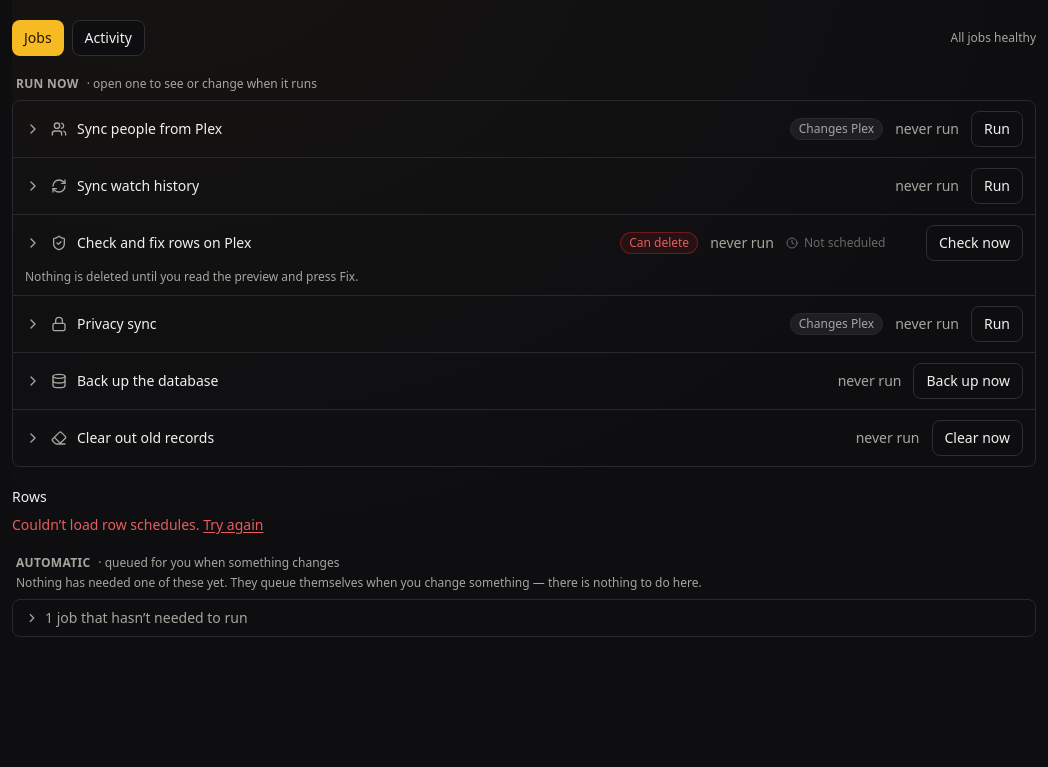
JobsPage — sync check › warns loudly and separately when a preview would DELETE something
Step 1. Click the button with aria-label "Check now: Check and fix rows on Plex" → (974, 243), box [926,225,1023,261]
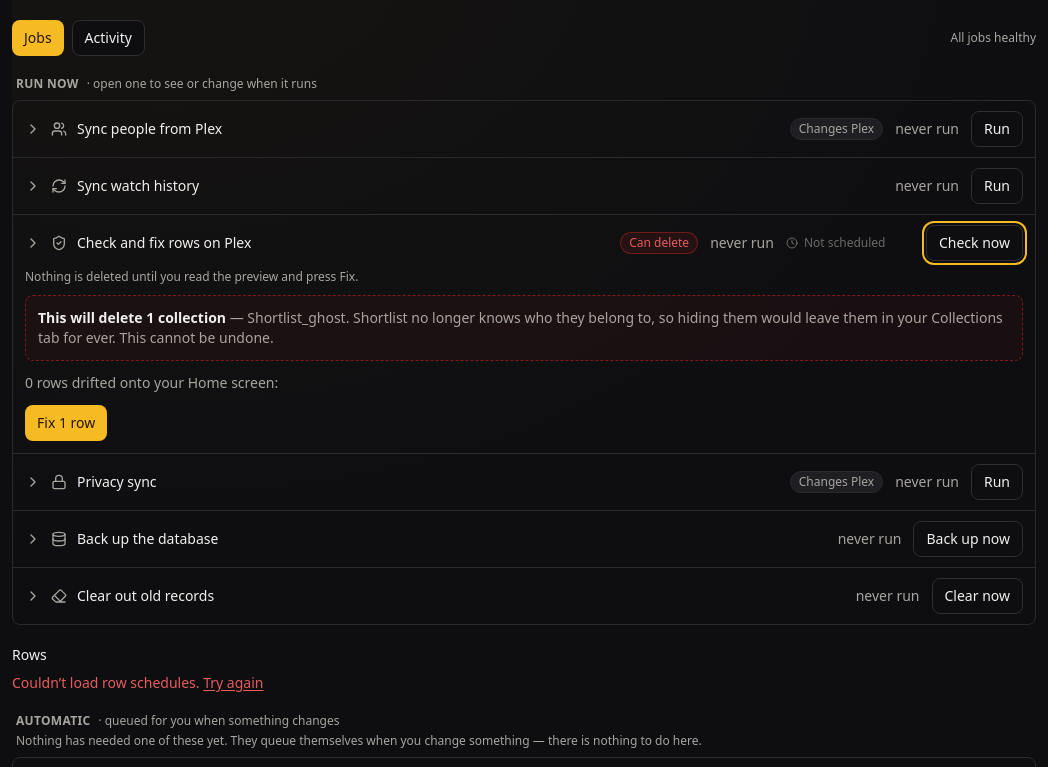
Expected: the text "This will delete 1 collection" is shown, [38,308,226,327]
Expected: the text "Shortlist_ghost" is shown, [247,308,346,327]
Expected: the text "cannot be undone" is shown, [38,308,1003,347]
